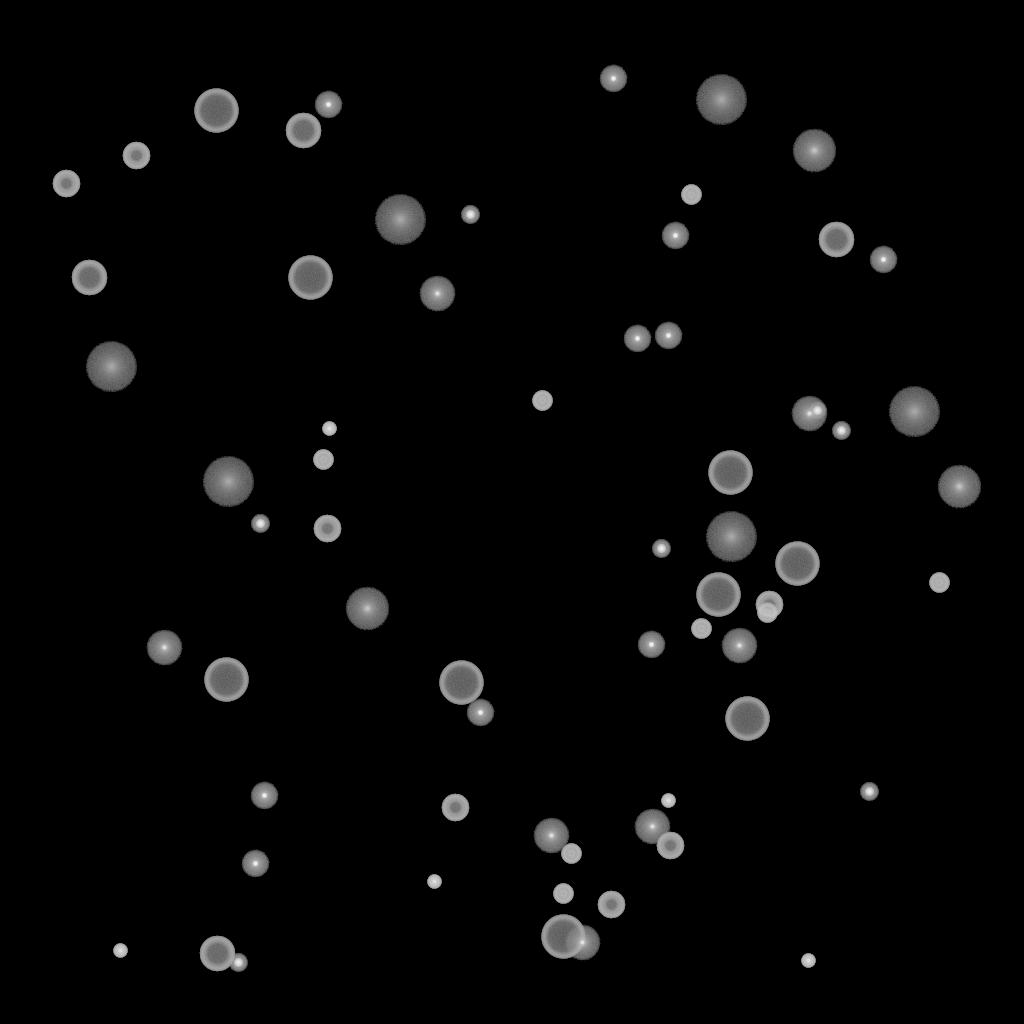depth:-10: (599, 65, 627, 93), (466, 699, 494, 727), (654, 322, 682, 350), (869, 246, 897, 274), (314, 91, 342, 119), (241, 850, 269, 878), (637, 631, 665, 659), (623, 325, 651, 353), (661, 222, 689, 250), (250, 782, 278, 810)
depth:-20: (832, 422, 850, 440), (808, 402, 826, 420), (461, 206, 479, 224), (652, 540, 670, 558), (251, 515, 269, 533), (229, 954, 247, 972), (860, 783, 878, 801)
depth:-30: (427, 875, 441, 889), (322, 422, 336, 436), (661, 794, 675, 808), (801, 954, 815, 968), (113, 944, 127, 958)
depth:-40: (553, 884, 573, 904), (691, 619, 711, 639), (313, 450, 333, 470), (929, 573, 949, 593), (532, 391, 552, 411), (561, 844, 581, 864), (681, 185, 701, 205), (757, 603, 777, 623)
depth:-50: (122, 142, 150, 170), (597, 891, 625, 919), (313, 515, 341, 543), (656, 832, 684, 860), (52, 170, 80, 198), (441, 794, 469, 822), (755, 591, 783, 619)
depth:-60: (71, 260, 107, 296), (285, 113, 321, 149), (818, 222, 854, 258), (199, 936, 235, 972)
depth:-70: (775, 542, 819, 586), (204, 658, 248, 702), (194, 89, 238, 133), (288, 256, 332, 300), (541, 915, 585, 959), (439, 661, 483, 705), (725, 697, 769, 741), (708, 451, 752, 495), (696, 573, 740, 617)
depth:0: (634, 809, 670, 845), (146, 630, 182, 666), (791, 396, 827, 432), (533, 818, 569, 854), (419, 276, 455, 312), (721, 628, 757, 664), (564, 925, 600, 961)
depth:10: (345, 587, 389, 631), (792, 129, 836, 173), (937, 465, 981, 509)
depth:20: (85, 342, 137, 392), (888, 387, 940, 437), (202, 457, 254, 507), (695, 75, 747, 125), (374, 195, 426, 245), (705, 512, 757, 562)
